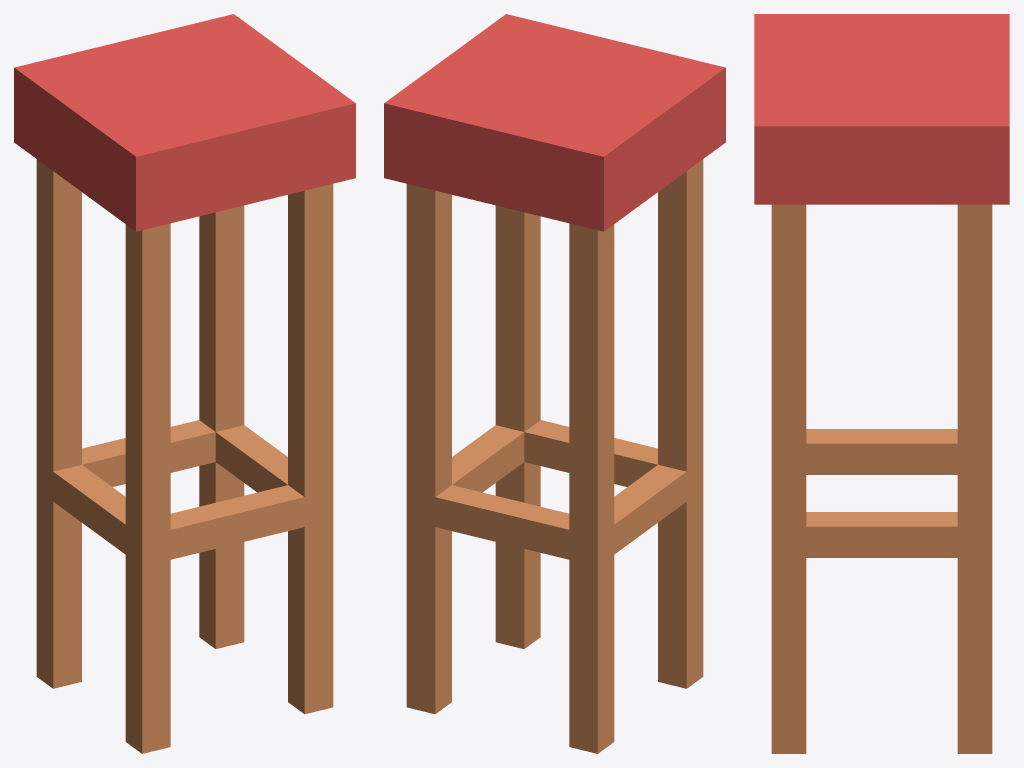
File: stoolBarSquare.fbx
3 views of the same model, side by side, from view 1: azimuth 30°, elevation 25°; view 2: azimuth 150°, elevation 25°; view 3: azimuth 270°, elevation 25° (orthographic). The views are drawn at different scales.
Parts seen in each view (by area): view 1: stoolBarSquare; view 2: stoolBarSquare; view 3: stoolBarSquare.
Boxes of the visible parts, bbox=[...] form: stoolBarSquare: bbox=[14, 14, 355, 753]; stoolBarSquare: bbox=[384, 14, 725, 753]; stoolBarSquare: bbox=[754, 14, 1009, 753].
Bounding box in the file's own units: 1.54 × 4.05 × 1.48.
